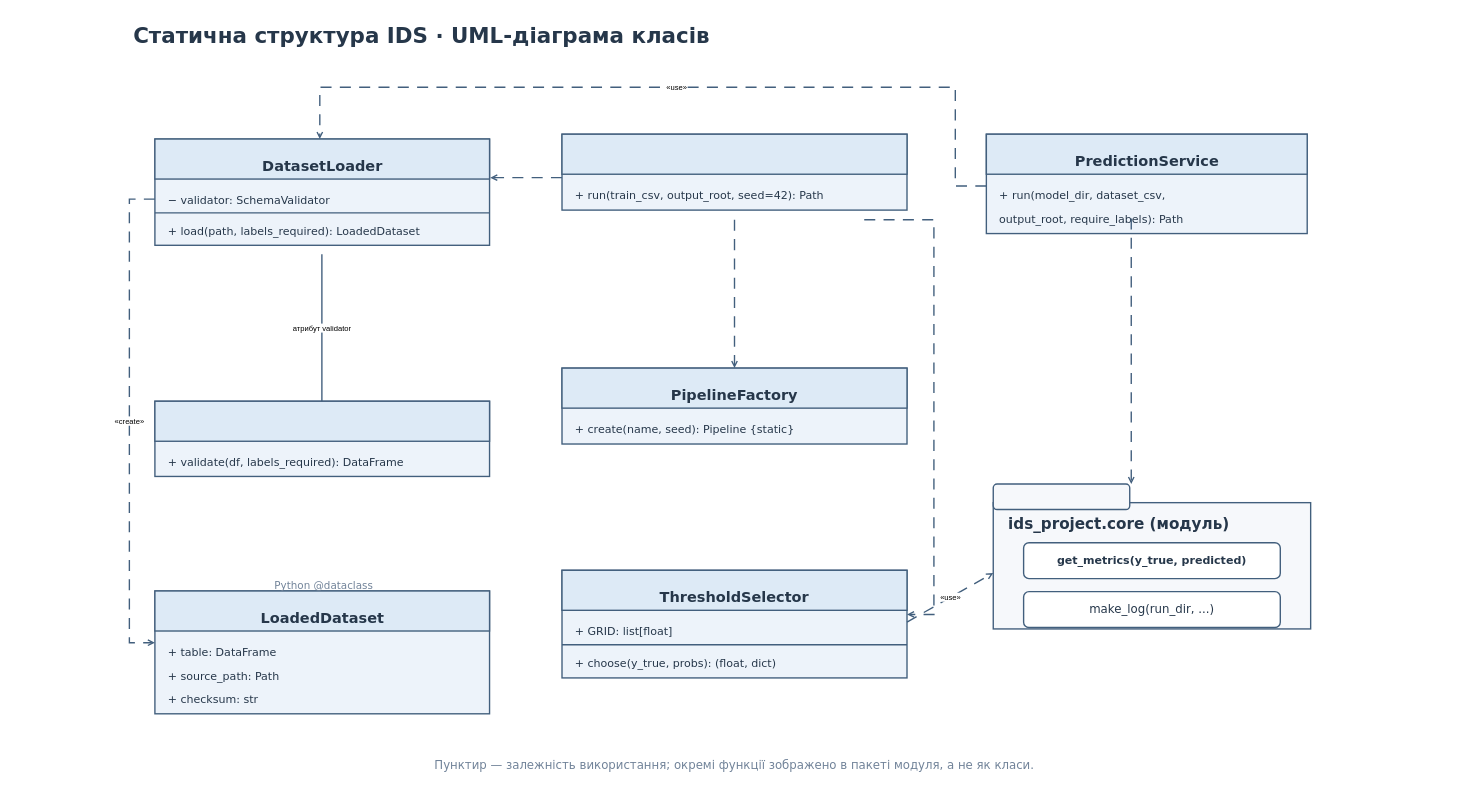
Image size: 1469x801. Some labels were removed from this diagram. The centre of each missing label's shape, as x and y in pixels:
"ModelTrainer" goes at point (734, 154).
"SchemaValidator" goes at point (322, 421).
